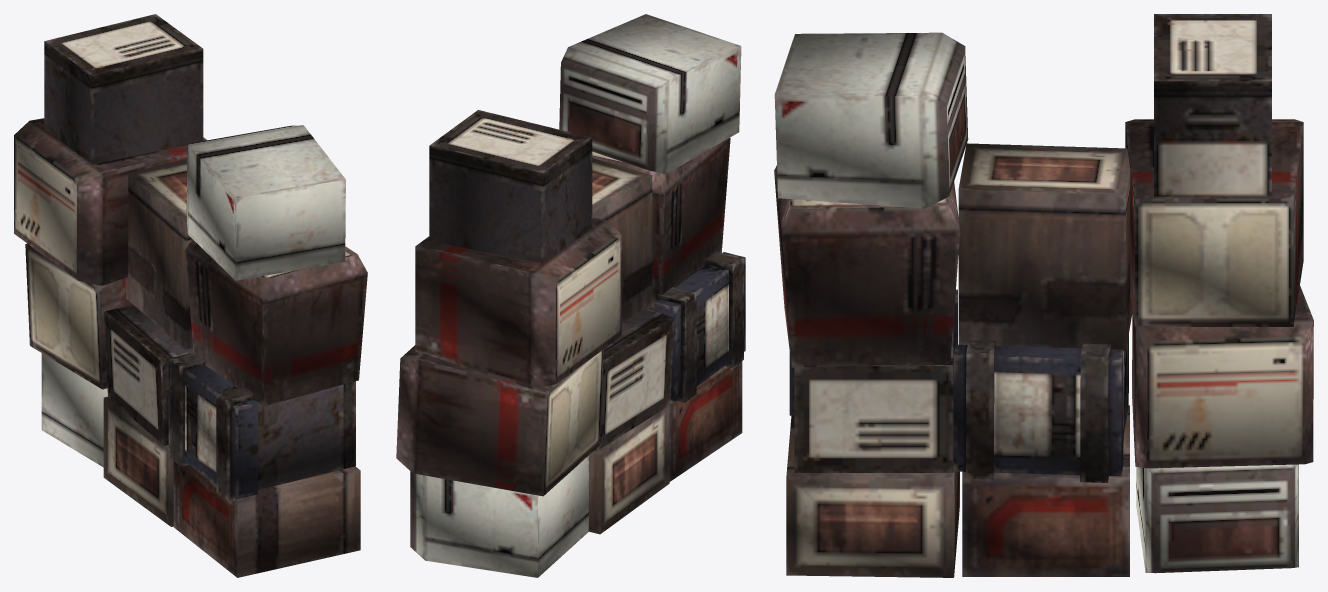
The model's file is Junk05.FBX.
The picture shows the model from 3 angles, left to right: view 1: azimuth 30°, elevation 25°; view 2: azimuth 150°, elevation 25°; view 3: azimuth 270°, elevation 25°; orthographic projection. The views are drawn at different scales.
Parts seen in each view (by area): view 1: Junk05; view 2: Junk05; view 3: Junk05.
Boxes of the visible parts, x1=… form: Junk05: x1=14, y1=14, x2=367, y2=577; Junk05: x1=396, y1=14, x2=745, y2=577; Junk05: x1=774, y1=14, x2=1313, y2=577.
Bounding box in the file's own units: 0.6429 × 1.52 × 1.52.
